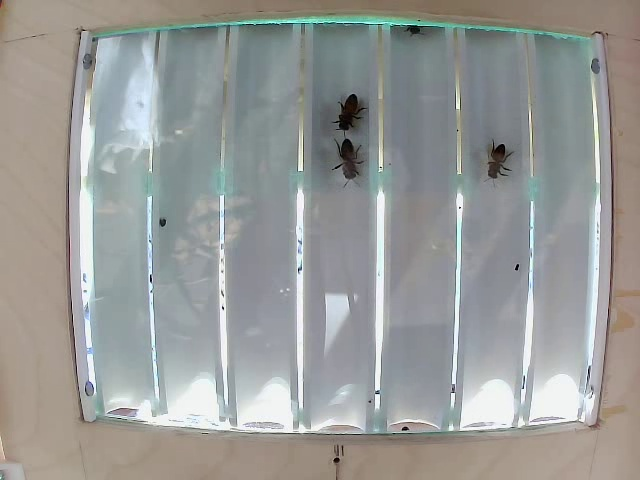bee: (328, 142, 373, 187), (335, 88, 369, 138), (483, 140, 512, 181)
